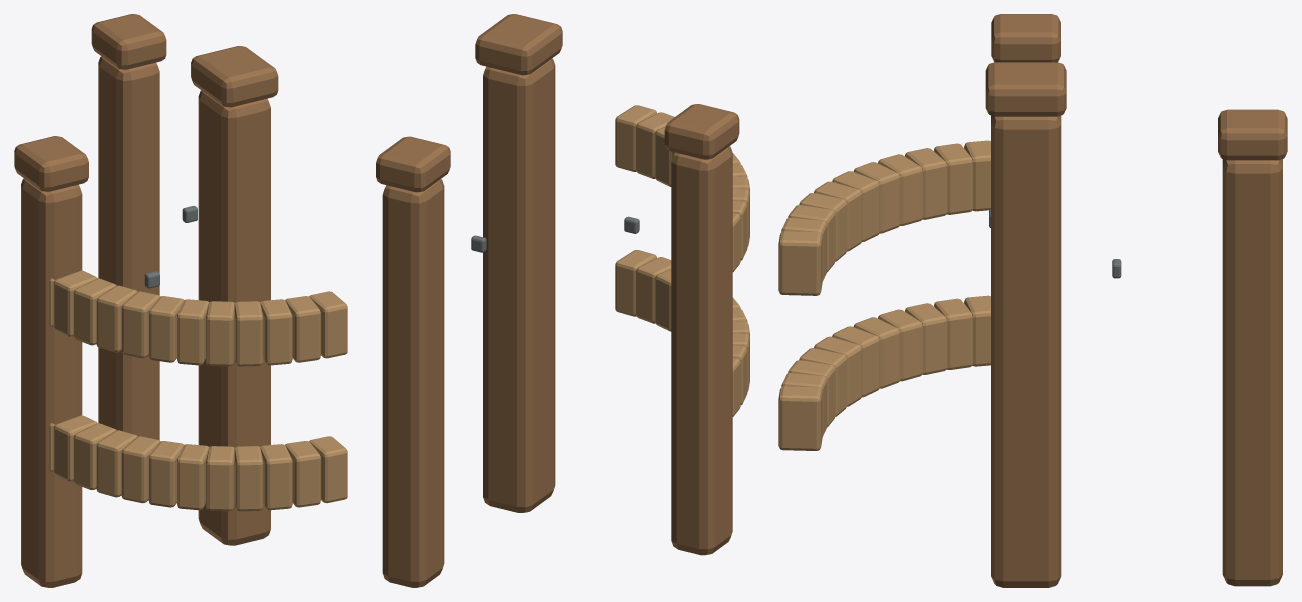
Rendered from cerca_curva.glb.
The picture shows the model from 3 angles, left to right: view 1: azimuth 30°, elevation 25°; view 2: azimuth 150°, elevation 25°; view 3: azimuth 270°, elevation 25°; orthographic projection. The views are drawn at different scales.
Parts seen in each view (by area): view 1: cerca_curva | Madeira de carvalho, cerca_curva | Tábuas de madeira, cerca_curva | Ferro envelhecido; view 2: cerca_curva | Madeira de carvalho, cerca_curva | Tábuas de madeira, cerca_curva | Ferro envelhecido; view 3: cerca_curva | Madeira de carvalho, cerca_curva | Tábuas de madeira.
Part boxes in pixels (bbox=[...]): cerca_curva | Madeira de carvalho: bbox=[14, 14, 278, 587]; cerca_curva | Tábuas de madeira: bbox=[49, 270, 347, 511]; cerca_curva | Ferro envelhecido: bbox=[144, 206, 197, 288]; cerca_curva | Madeira de carvalho: bbox=[376, 14, 739, 587]; cerca_curva | Tábuas de madeira: bbox=[615, 105, 749, 416]; cerca_curva | Ferro envelhecido: bbox=[471, 216, 639, 252]; cerca_curva | Madeira de carvalho: bbox=[985, 14, 1287, 587]; cerca_curva | Tábuas de madeira: bbox=[778, 140, 990, 450].
Size of the model in its own units: 0.5794 by 1.11 by 1.01.
